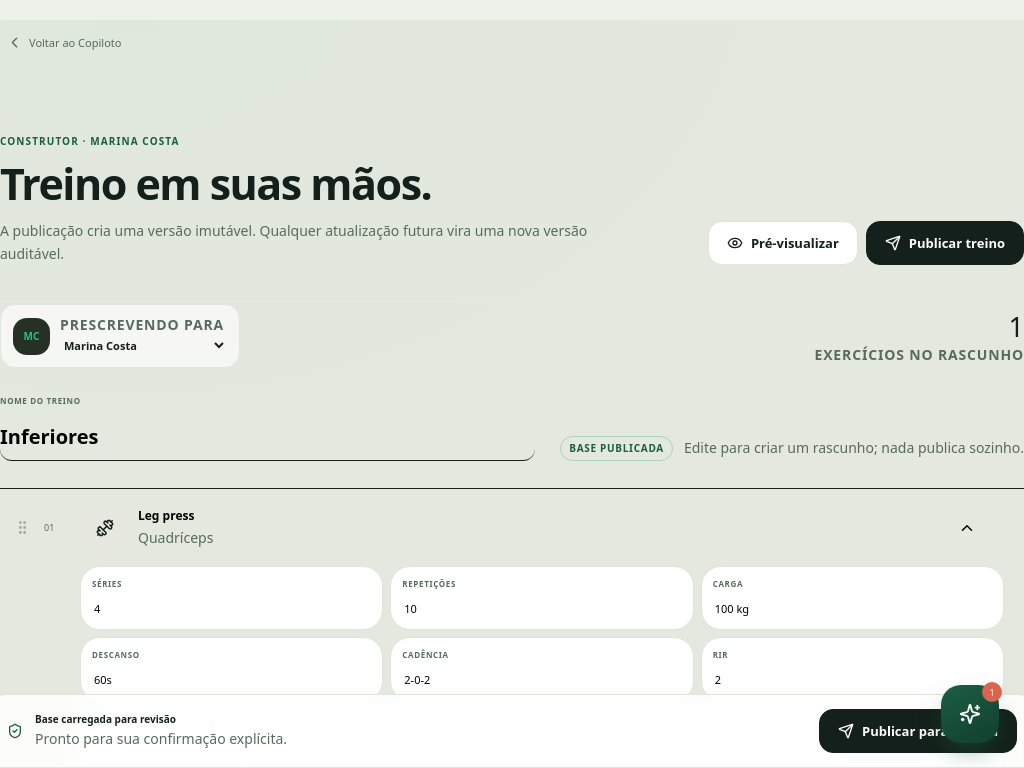
Test case: live workout builder copilot › records rejection while preserving every workout parameter
Expected: the heading "Treino em suas mãos." is shown, x1=0 y1=154 x2=431 y2=213
Click the button named "Abrir 1 ponto para revisar com o Copiloto" at x=970, y=714, box x1=941 y1=685 x2=999 y2=743
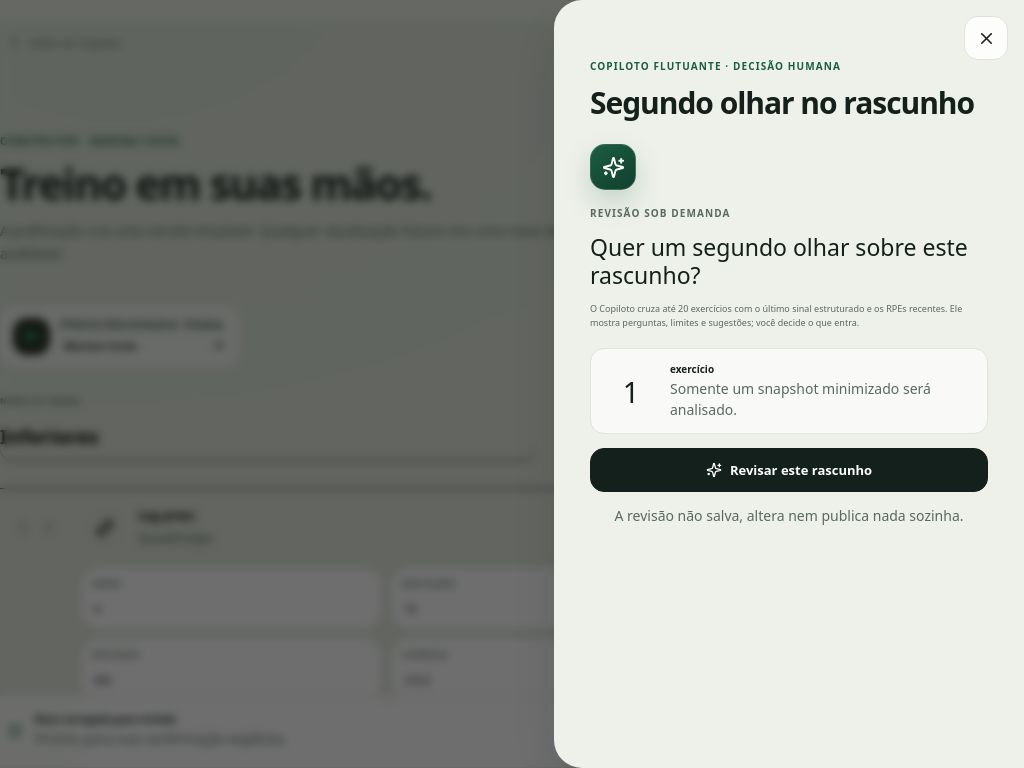
Click the button "Revisar este rascunho" at x=789, y=470, box x1=590 y1=448 x2=988 y2=492
(page scrolled)
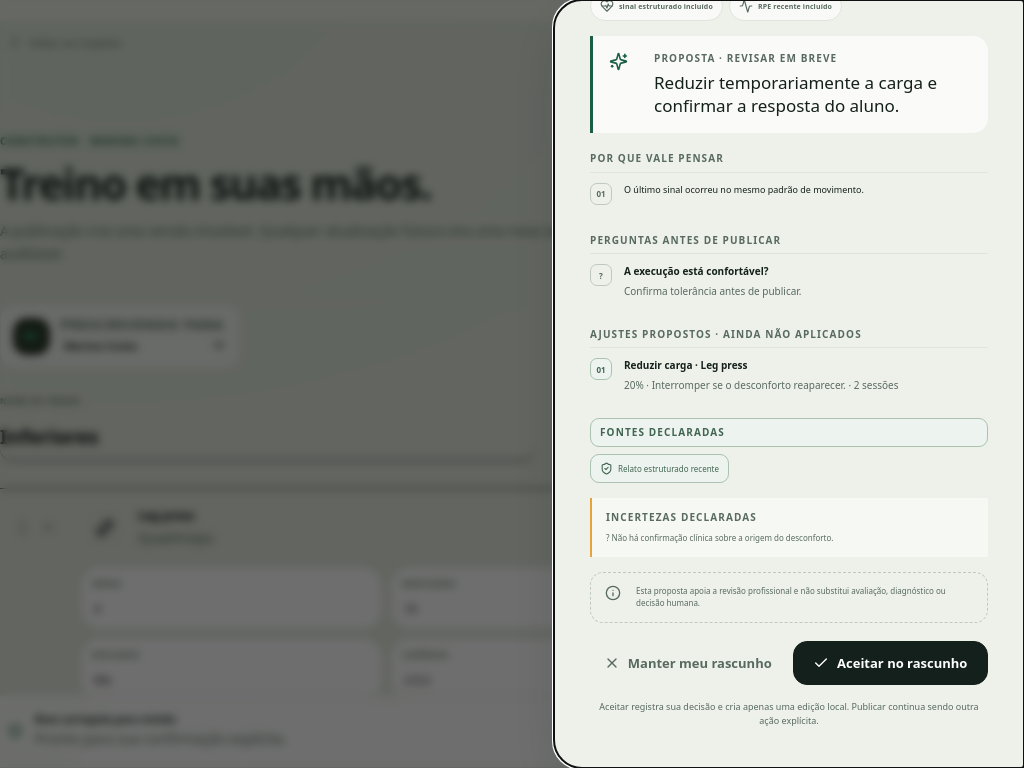
Expected: the heading "Reduzir temporariamente a carga e confirmar a resposta do aluno." is shown, x1=654 y1=72 x2=972 y2=118
Click the button "Manter meu rascunho" at x=688, y=663, box x1=590 y1=641 x2=786 y2=685
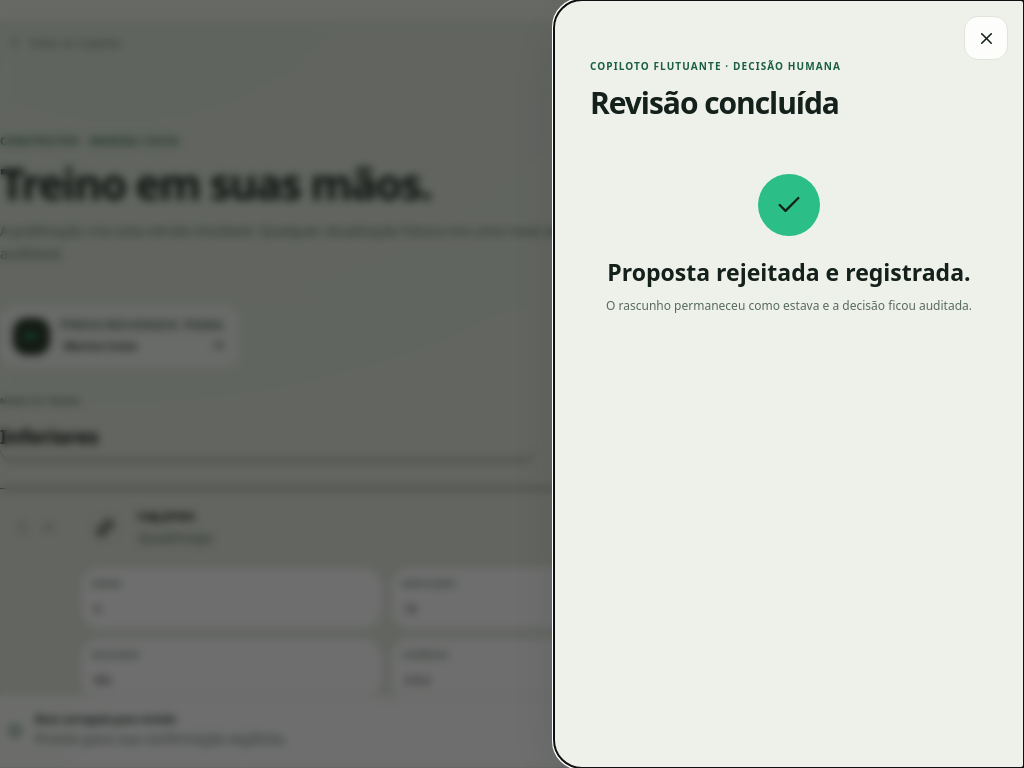
Expected: the heading "Proposta rejeitada e registrada." is shown, x1=590 y1=256 x2=988 y2=288
